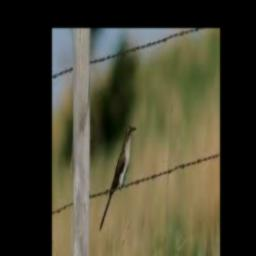Cuckoo: (100, 124, 137, 231)
